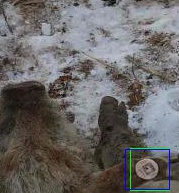text: (130, 148, 169, 190)
